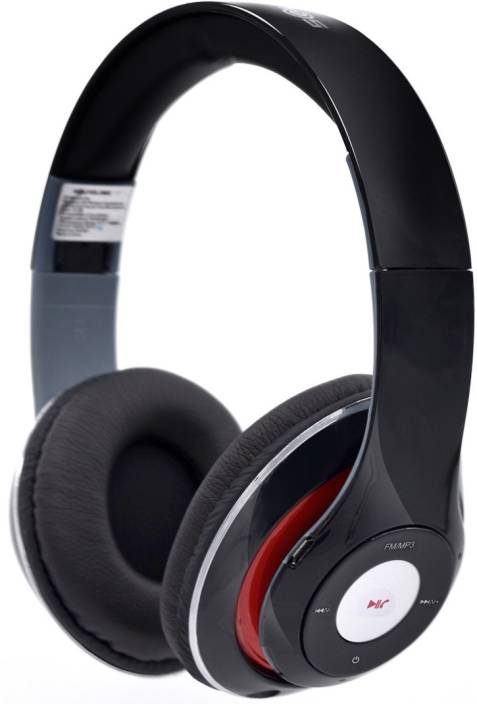Headphone: (15, 1, 477, 698)
